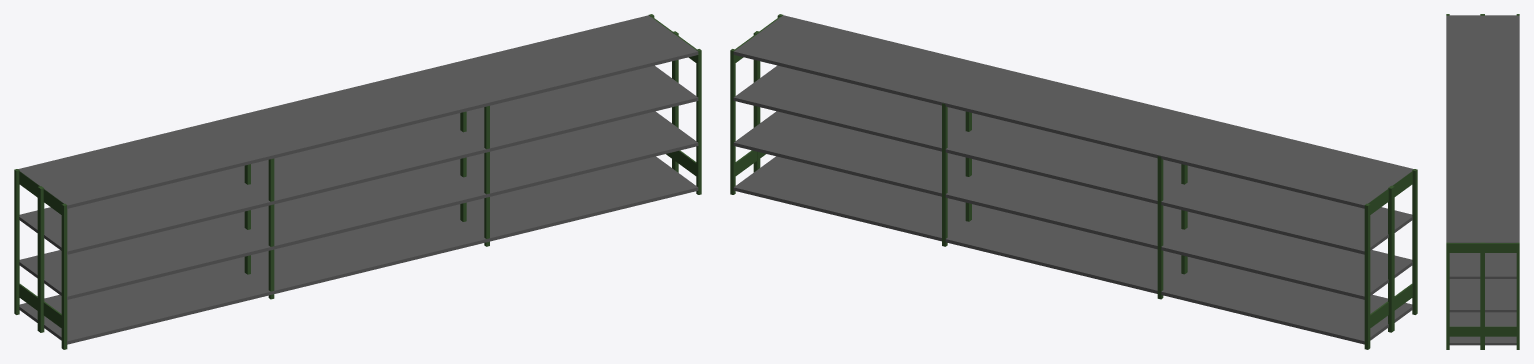
The model's file is storage-shelfs.glb.
3 renders of one model, left to right at view 1: azimuth 30°, elevation 25°; view 2: azimuth 150°, elevation 25°; view 3: azimuth 270°, elevation 25°, orthographic. The views are drawn at different scales.
Parts seen in each view (by area): view 1: Cube; view 2: Cube; view 3: Cube.
Boxes of the visible parts, x1,y1,x2,y2 form: Cube: [14, 14, 701, 349]; Cube: [730, 14, 1417, 349]; Cube: [1446, 14, 1519, 349].
Bounding box in the file's own units: 38 × 8.2 × 5.13.
